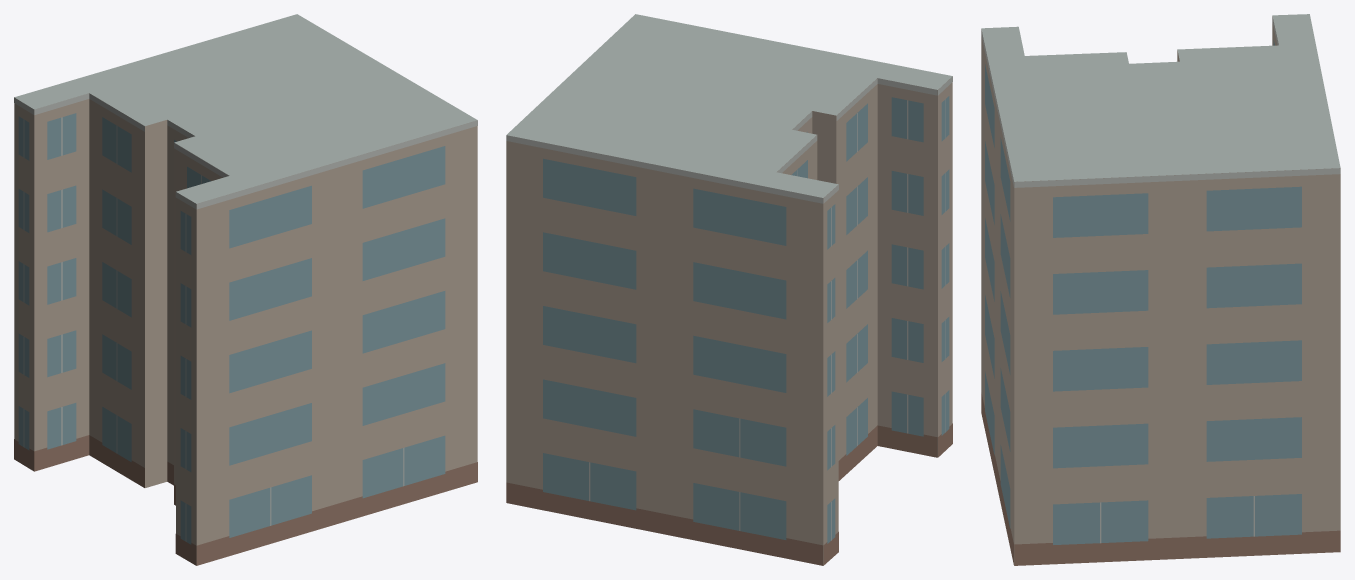
Rendered from survey-upis-32998837.glb.
3 renders of one model, left to right at view 1: azimuth 30°, elevation 25°; view 2: azimuth 150°, elevation 25°; view 3: azimuth 270°, elevation 25°, orthographic. The views are drawn at different scales.
Parts seen in each view (by area): view 1: survey-upis-32998837.tmp; view 2: survey-upis-32998837.tmp; view 3: survey-upis-32998837.tmp.
Boxes of the visible parts, x1=… form: survey-upis-32998837.tmp: x1=14, y1=14, x2=477, y2=565; survey-upis-32998837.tmp: x1=506, y1=14, x2=952, y2=565; survey-upis-32998837.tmp: x1=981, y1=14, x2=1340, y2=565.
Bounding box in the file's own units: 14.54 × 15.5 × 13.16.
